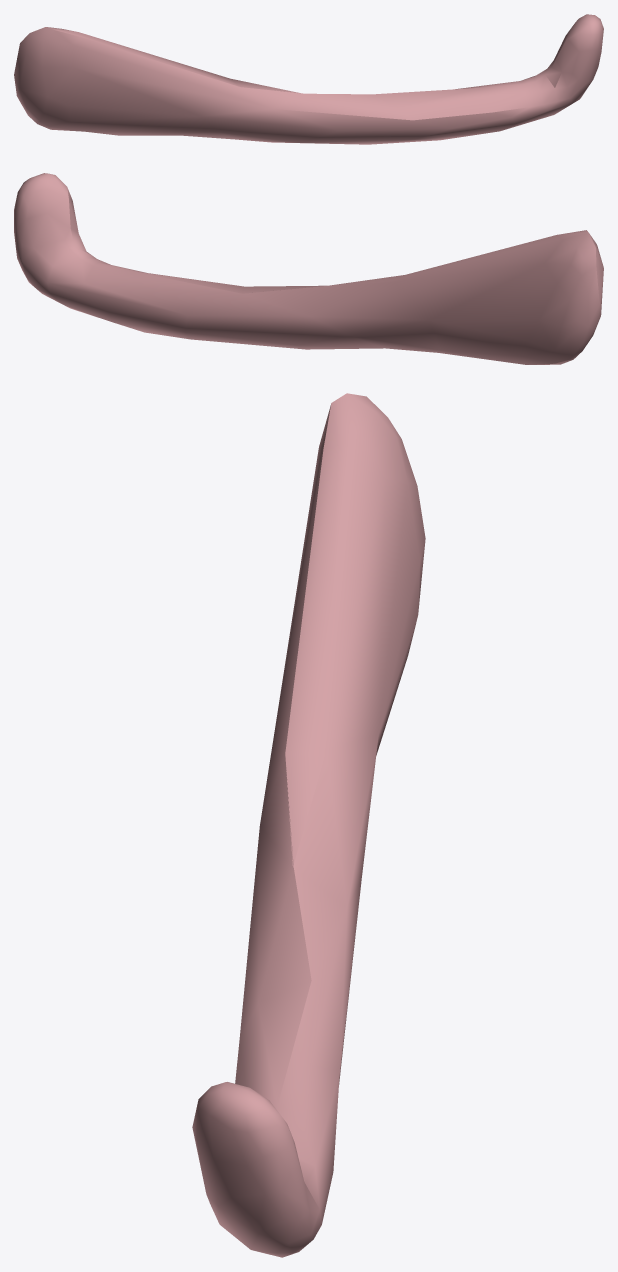
File: fma59577_mm2240.glb
The picture shows the model from 3 angles, top to bottom: view 1: azimuth 30°, elevation 25°; view 2: azimuth 150°, elevation 25°; view 3: azimuth 270°, elevation 25°; orthographic projection. The views are drawn at different scales.
Parts seen in each view (by area): view 1: FMA59577_MM2240; view 2: FMA59577_MM2240; view 3: FMA59577_MM2240.
Part boxes in pixels (bbox=[...]): FMA59577_MM2240: bbox=[14, 14, 603, 144]; FMA59577_MM2240: bbox=[14, 173, 603, 364]; FMA59577_MM2240: bbox=[192, 393, 425, 1257].
Size of the model in its own units: 0.00568 by 0.00194 by 0.00104.
